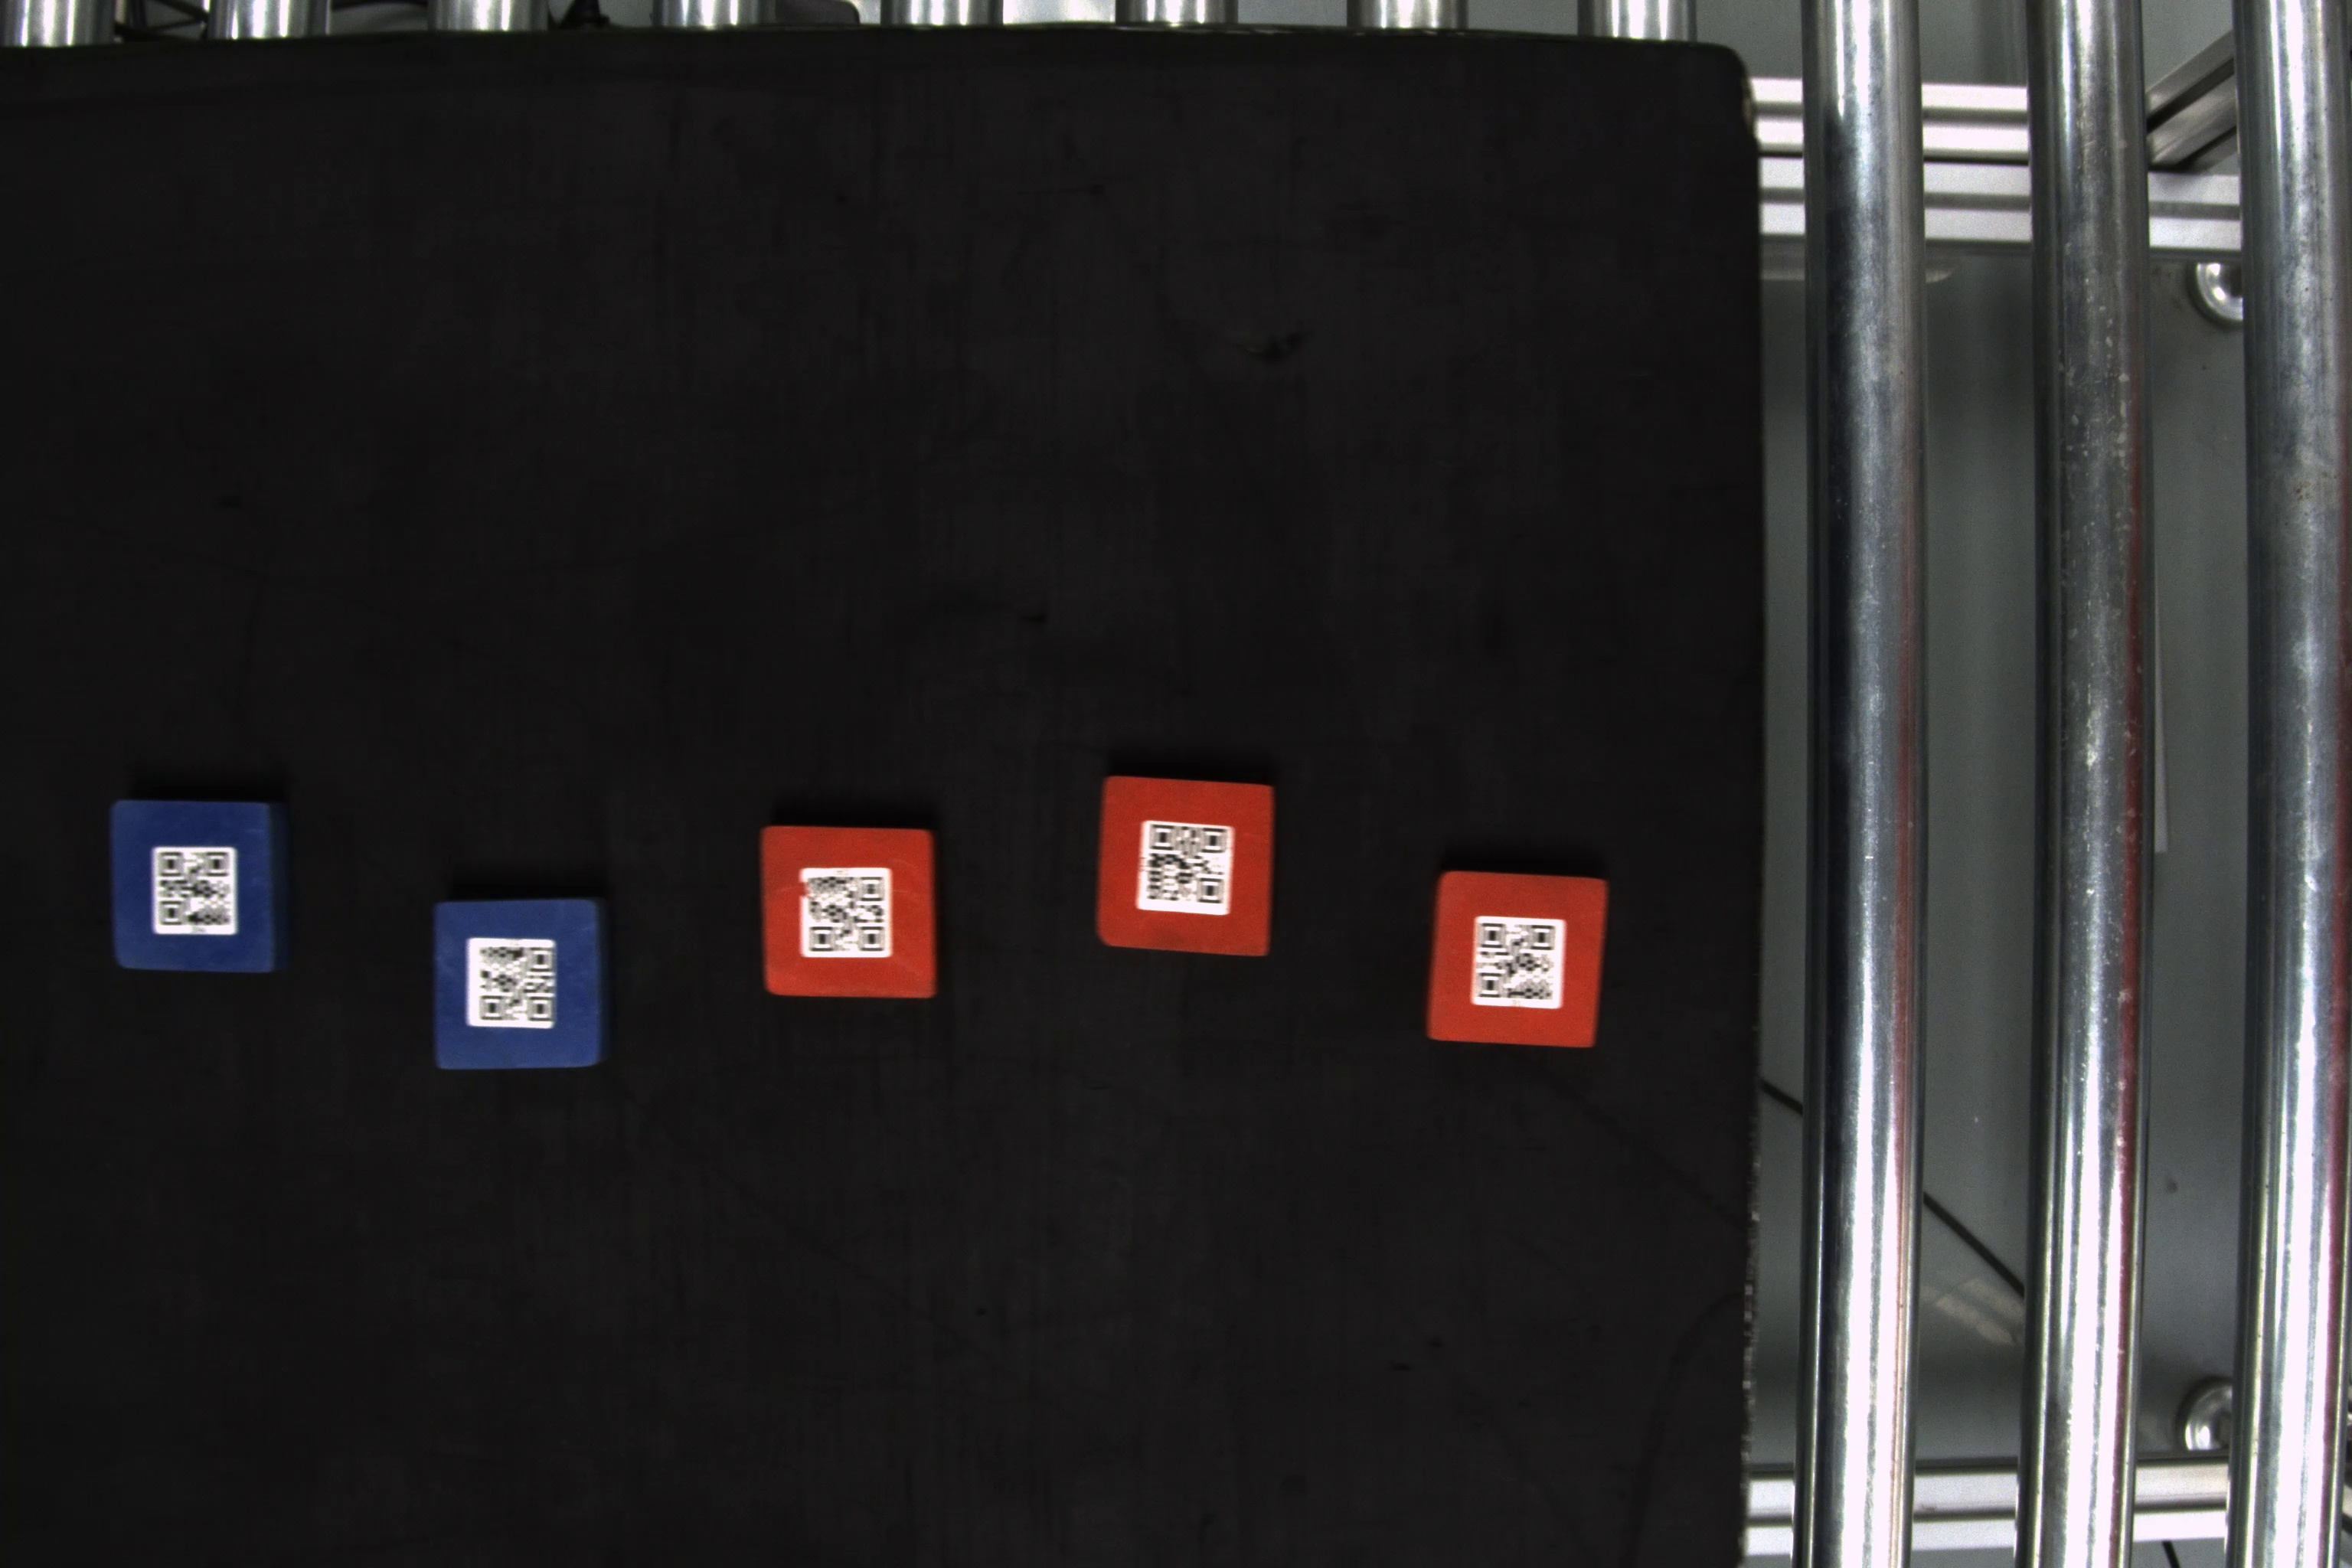wood: (1095, 766, 1281, 955), (1428, 864, 1612, 1053), (758, 821, 947, 1003), (103, 793, 292, 973), (427, 898, 611, 1081)
